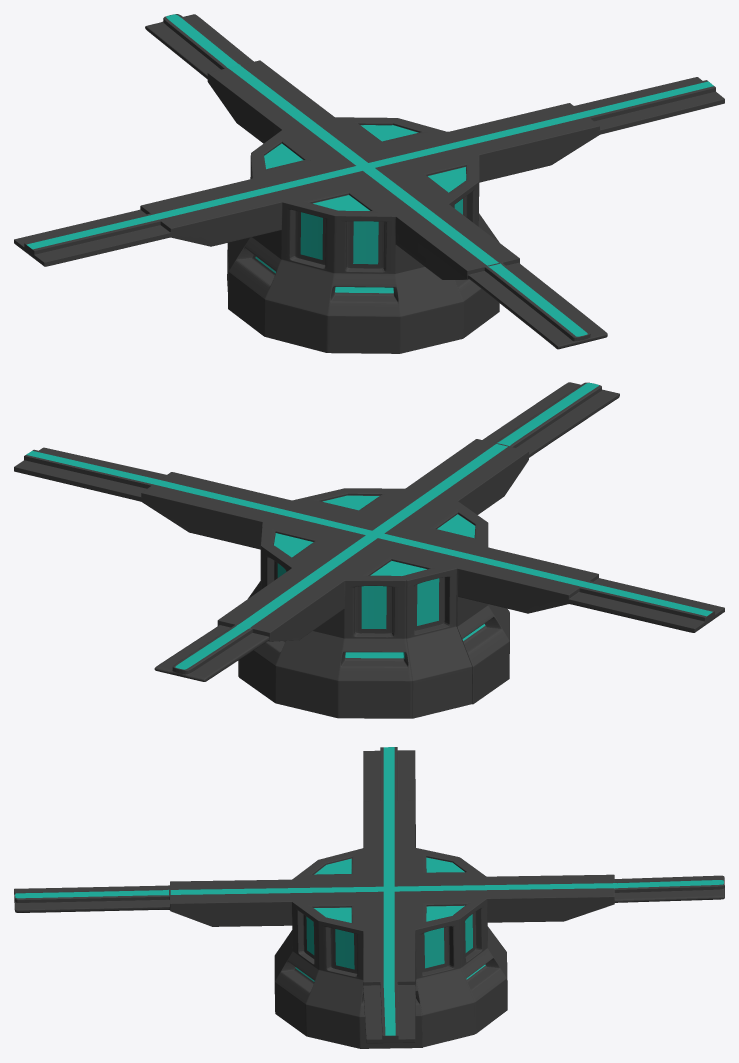
Rendered from hologram.fbx.
3 views of the same model, one above another, from view 1: azimuth 30°, elevation 25°; view 2: azimuth 150°, elevation 25°; view 3: azimuth 270°, elevation 25° (orthographic). The views are drawn at different scales.
Parts seen in each view (by area): view 1: Cylinder; view 2: Cylinder; view 3: Cylinder.
Boxes of the visible parts, x1,y1,x2,y2 form: Cylinder: [14, 14, 724, 353]; Cylinder: [14, 382, 724, 718]; Cylinder: [14, 747, 724, 1048].
Size of the model in its own units: 561 by 109 by 591.
